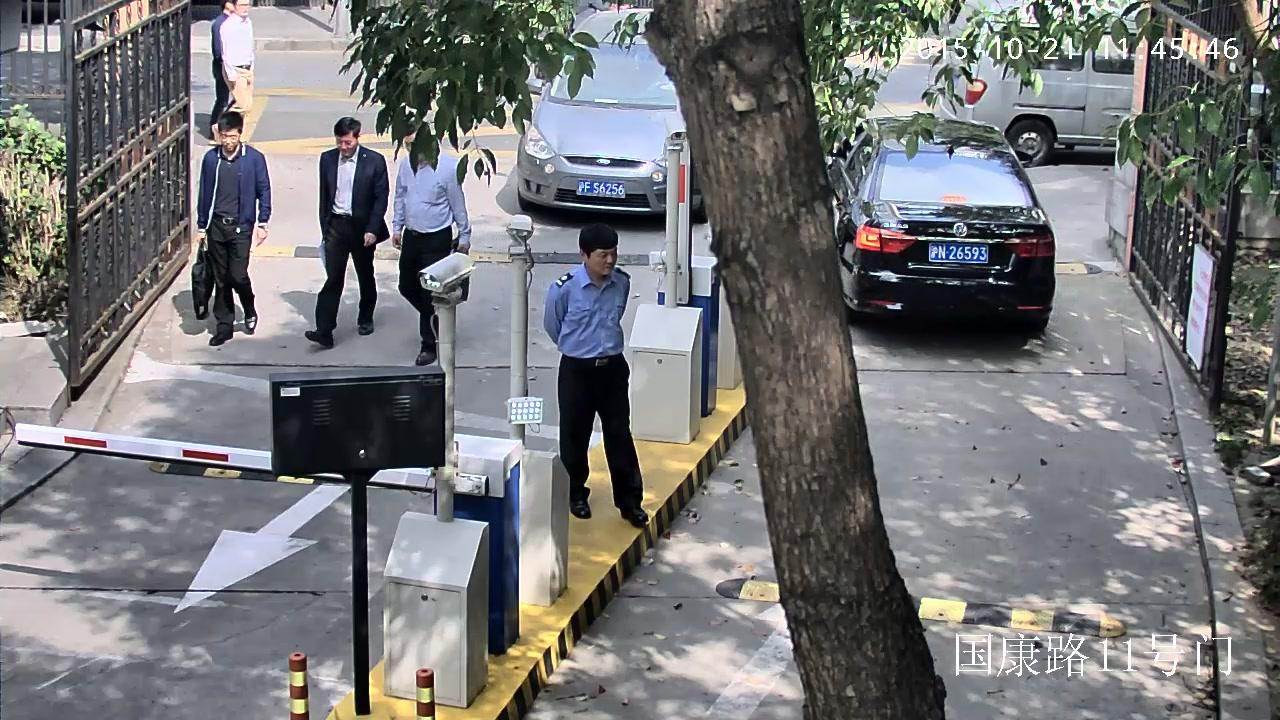face: (585, 247, 617, 275), (334, 131, 356, 157), (220, 126, 239, 152), (406, 132, 423, 160), (235, 0, 250, 17), (230, 0, 235, 11)
